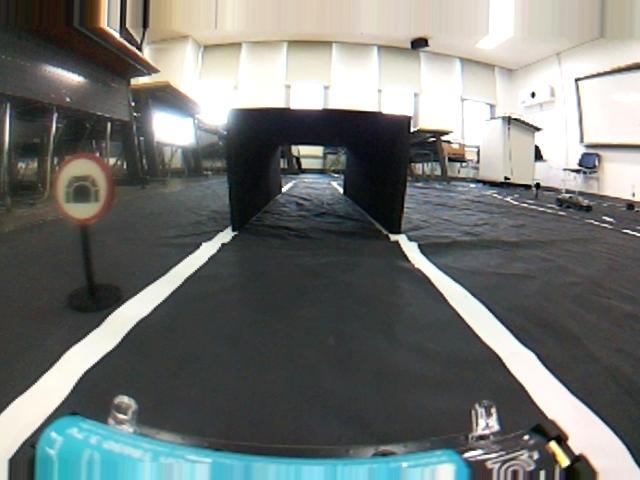sign_tunnel: (46, 149, 126, 228)
straight: (14, 318, 640, 475)
